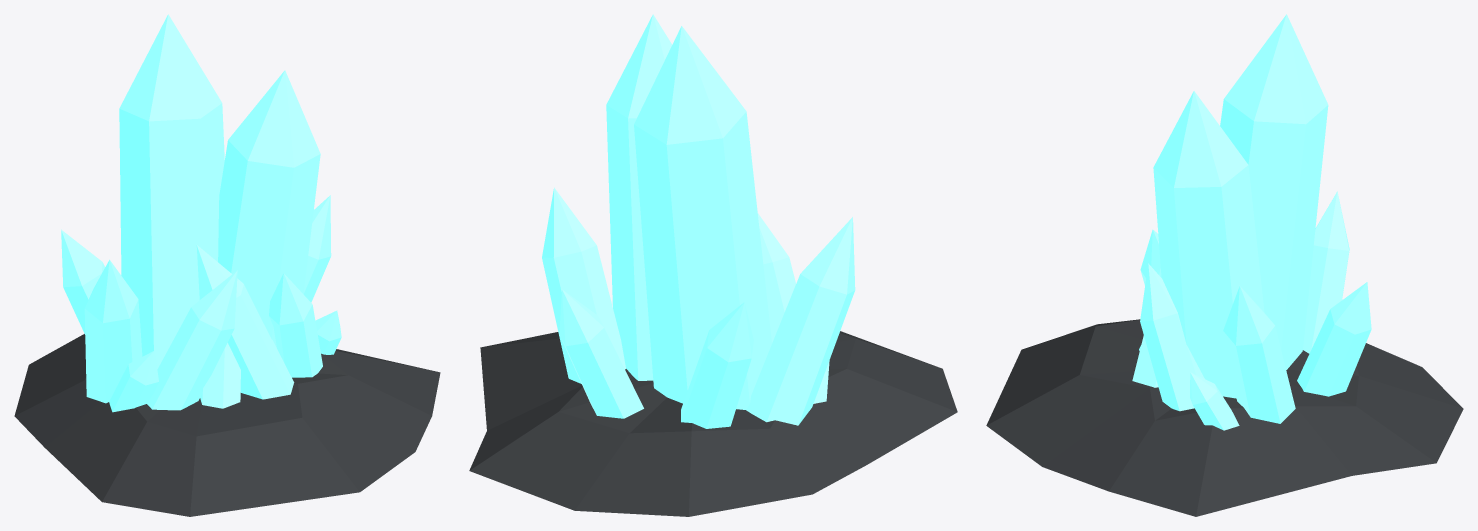
File: macro_crystal_cluster_c.glb
The picture shows the model from 3 angles, left to right: view 1: azimuth 30°, elevation 25°; view 2: azimuth 150°, elevation 25°; view 3: azimuth 270°, elevation 25°; orthographic projection. The views are drawn at different scales.
Visible parts, largest first — view 1: Macro_Crystal_Cluster_C; view 2: Macro_Crystal_Cluster_C; view 3: Macro_Crystal_Cluster_C.
Part boxes in pixels (bbox=[...]): Macro_Crystal_Cluster_C: bbox=[14, 14, 440, 516]; Macro_Crystal_Cluster_C: bbox=[469, 14, 957, 516]; Macro_Crystal_Cluster_C: bbox=[986, 14, 1463, 516].
Bounding box in the file's own units: 2.54 × 2.4 × 2.66.
